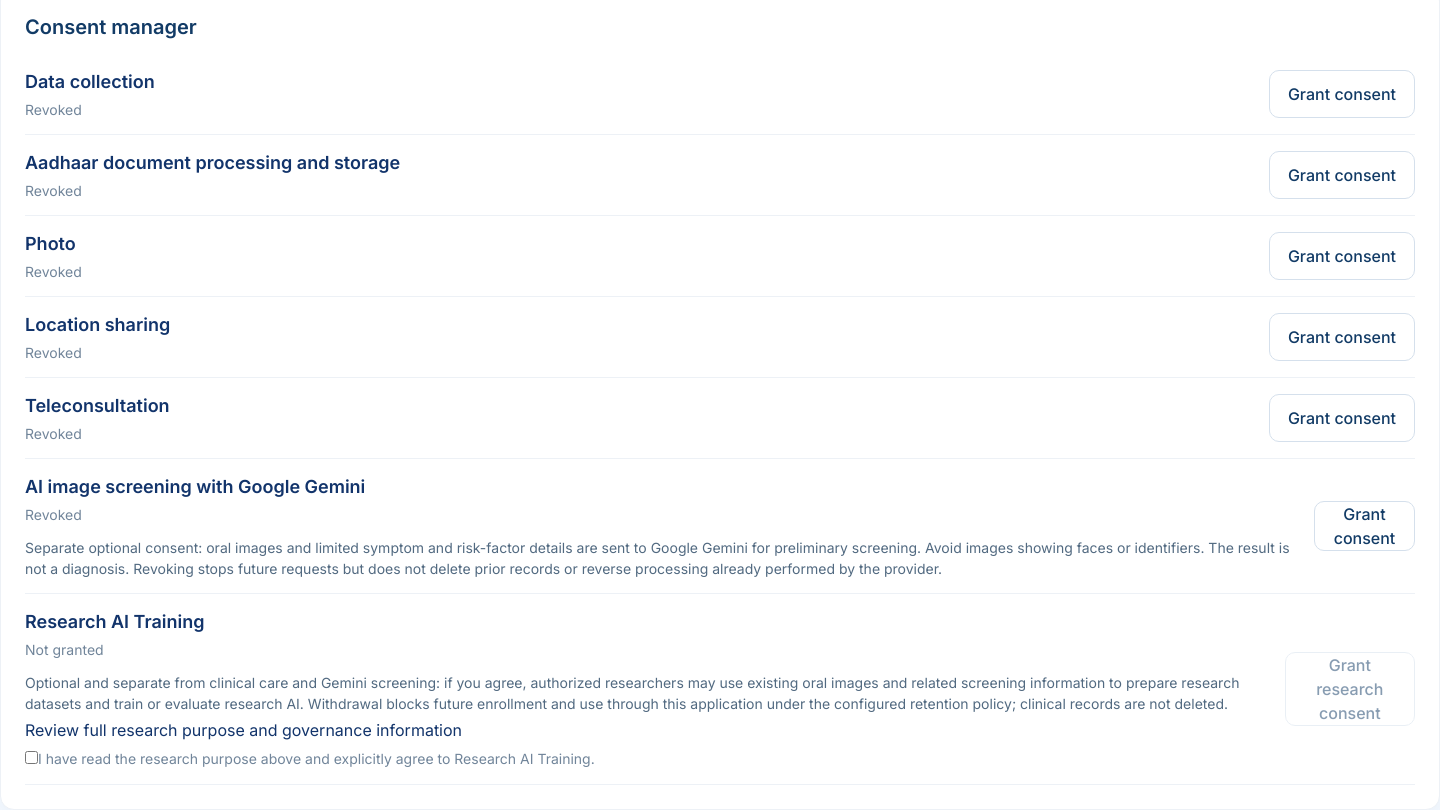
patient profile research AI training consent manager › requires explicit agreement and records research consent independently of Gemini consent
(page scrolled)
Expected: the button "Grant research consent" is disabled, [1285,652,1415,726]
What coordinates should you click on to do the following:
click the checkbox labelled "I have read the research purpose above"
I would click on:
 (32, 757)
Its box is [25,750,38,764].
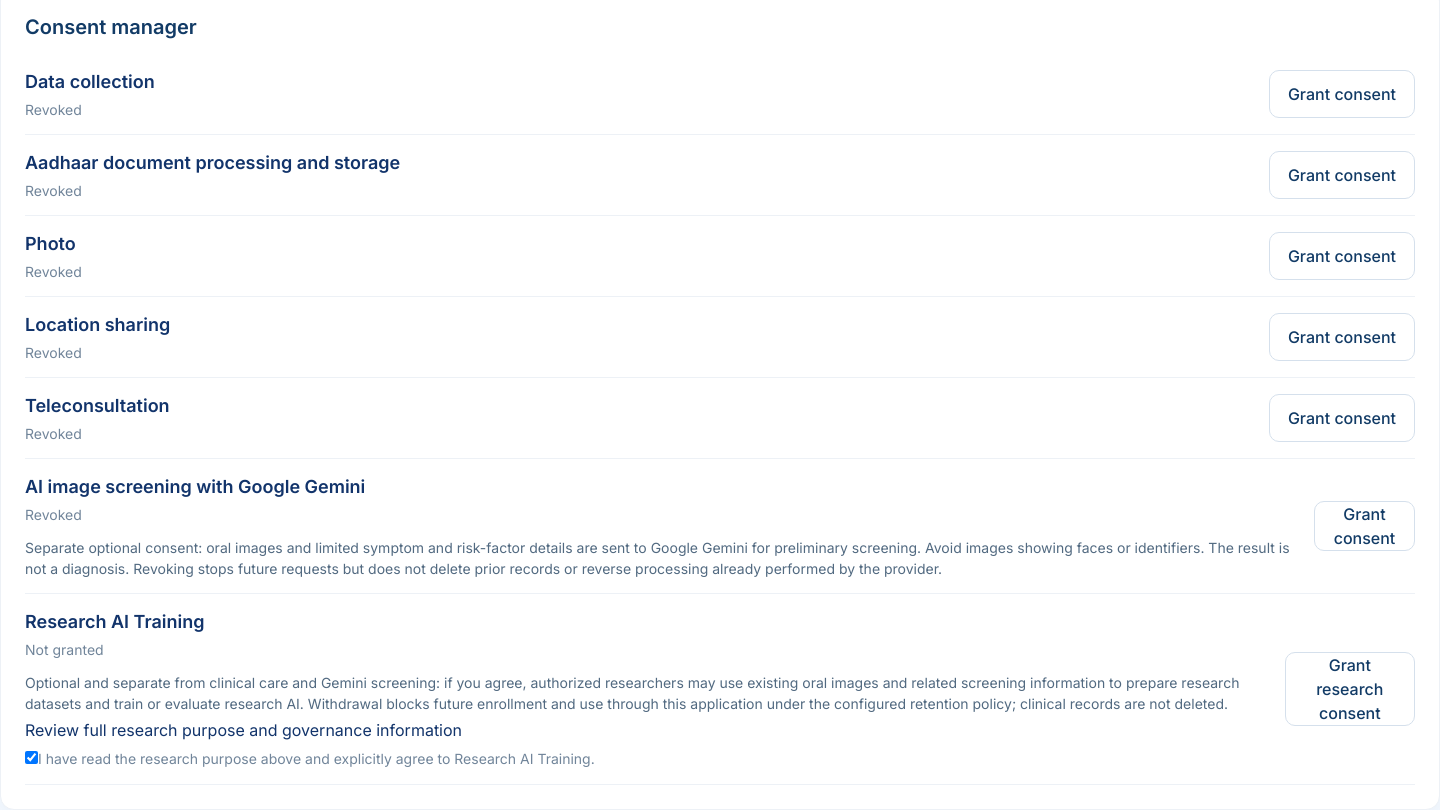
What coordinates should you click on to do the following:
click the button "Grant research consent"
I would click on:
 (1350, 688)
Its box is [1285,652,1415,726].
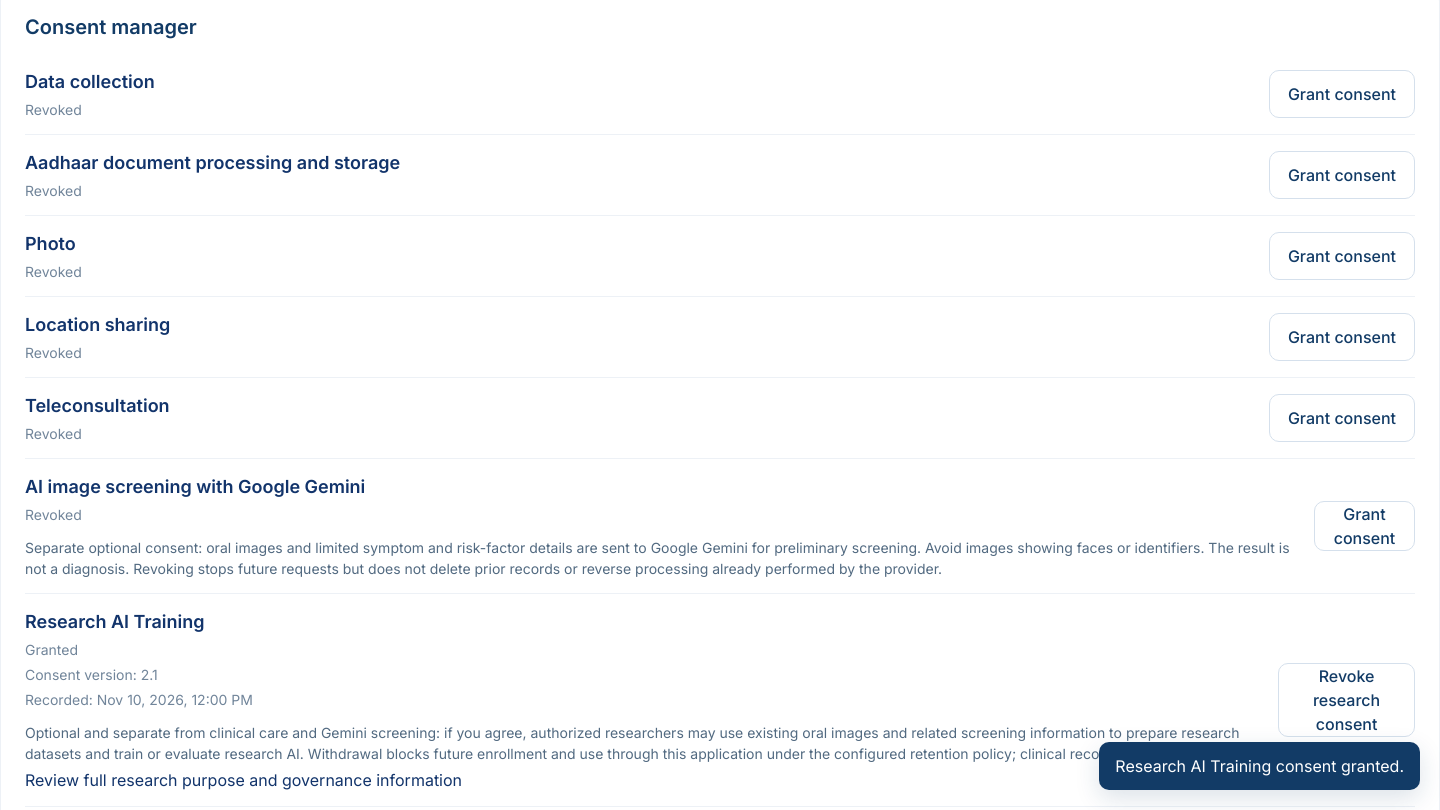
Expected: the text "Granted" is shown, [25,640,78,658]
Expected: the text "Consent version: 2.1" is shown, [25,666,158,682]
Expected: the button "Revoke research consent" is shown, [1278,662,1415,736]
